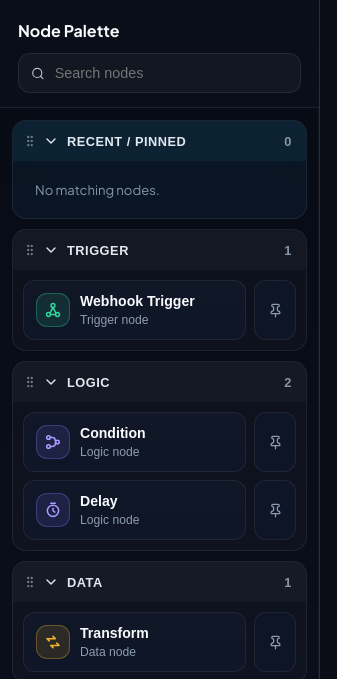
Test: SidebarPalette › renders all palette categories as collapsible sections
This screenshot has width=337, height=679.
Click the button "Logic 2" at (89, 382), box [35, 362, 306, 402]
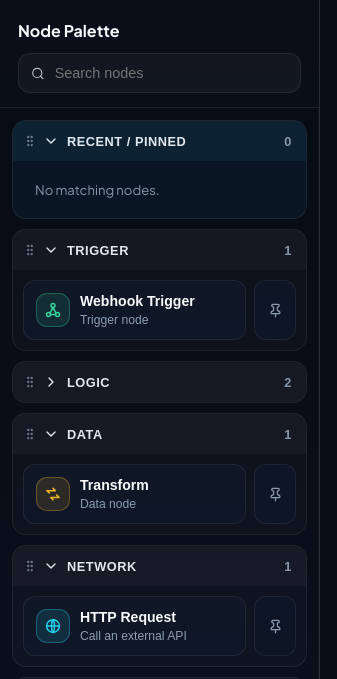
Now the button "Logic 2" is collapsed, box [35, 362, 306, 402]
Now the button with test id "palette-node-condition" is gone
